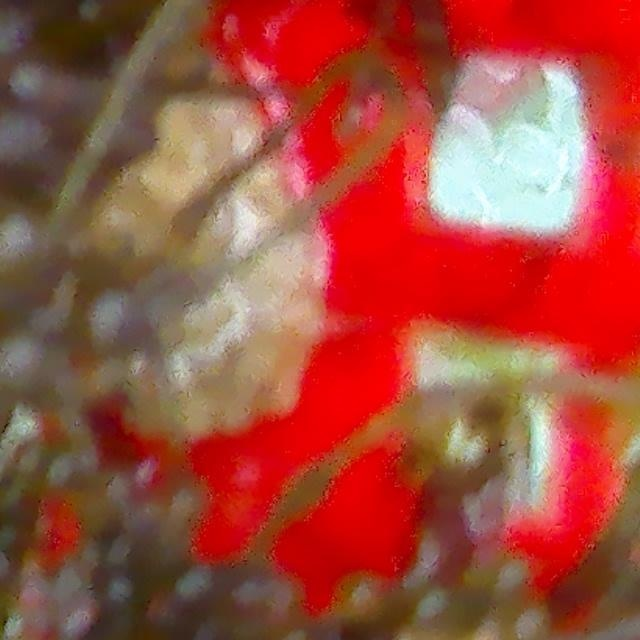SeaGrape: (0, 204, 48, 285), (85, 297, 148, 356), (97, 571, 159, 630), (170, 560, 228, 622)
